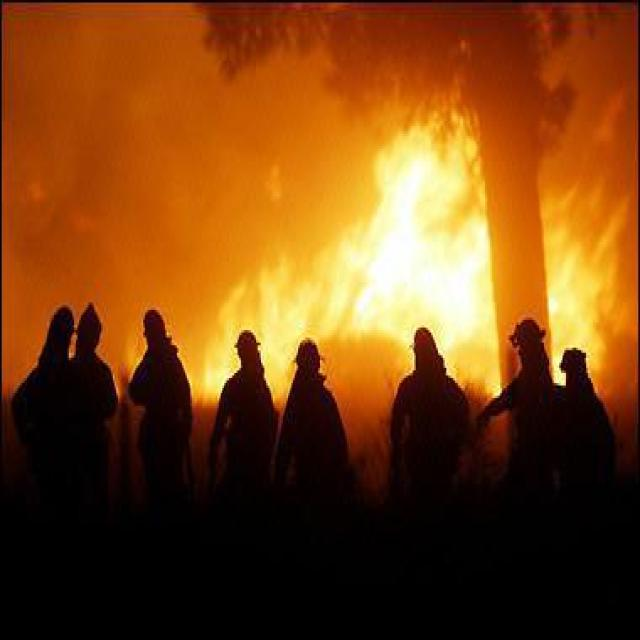fire: (224, 133, 503, 361), (542, 194, 620, 374)
